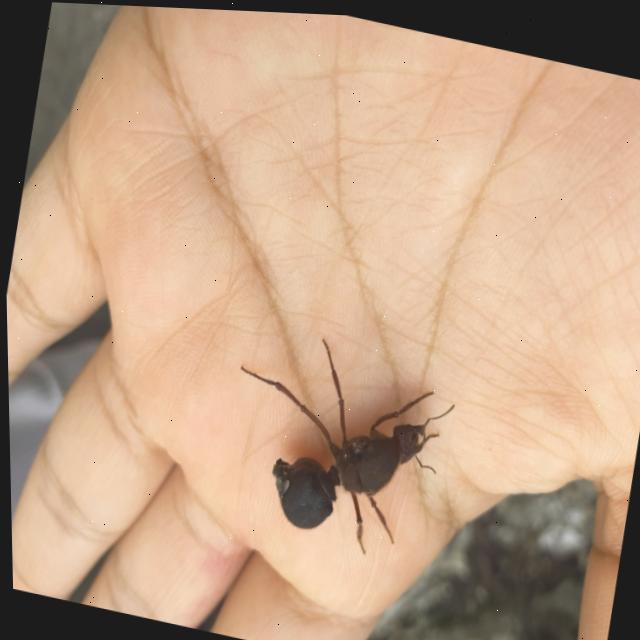Alive-Female-Dealate: (210, 317, 462, 565)
